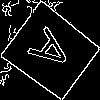A: (26, 25, 82, 81)
